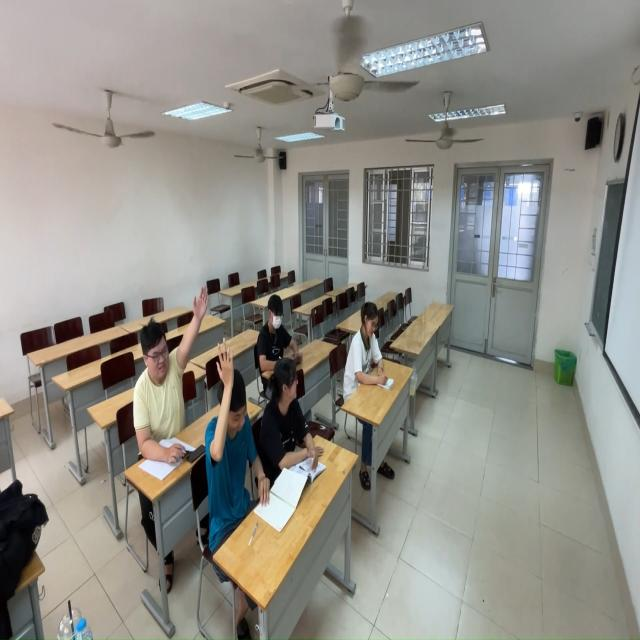raise_hand: (133, 276, 212, 473), (199, 336, 262, 533)
read: (259, 351, 330, 491), (340, 298, 398, 399), (255, 287, 293, 377)
